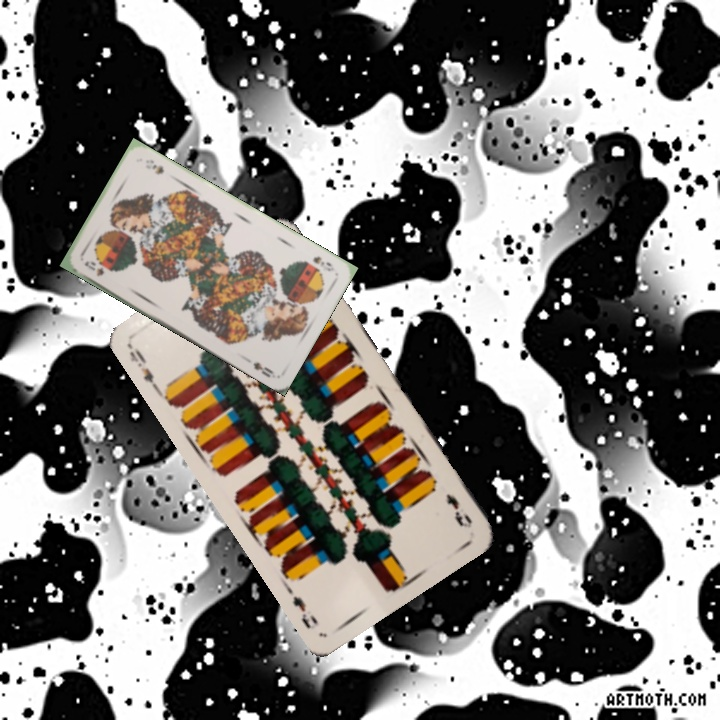E9: (123, 339, 162, 393), (441, 489, 475, 531)
SO: (309, 252, 337, 274), (80, 257, 107, 279)
